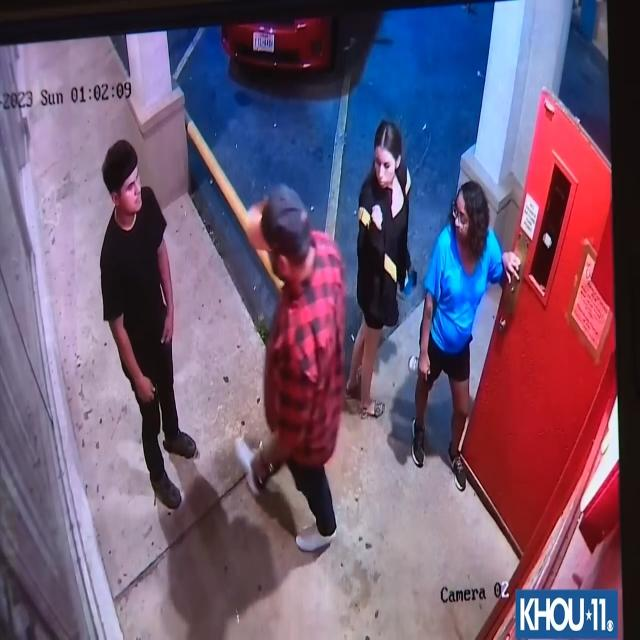Person: (232, 179, 340, 555), (93, 132, 199, 512), (416, 171, 520, 469), (348, 121, 410, 422)
